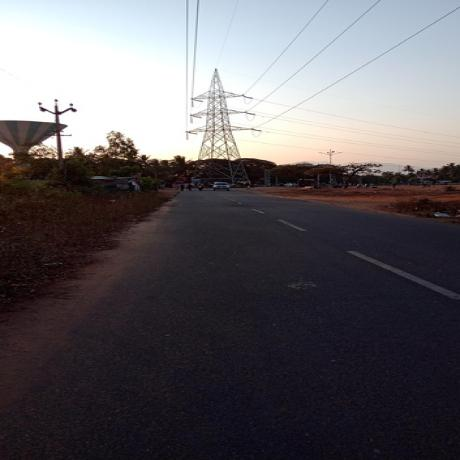Speed Bump: (175, 188, 250, 190)
